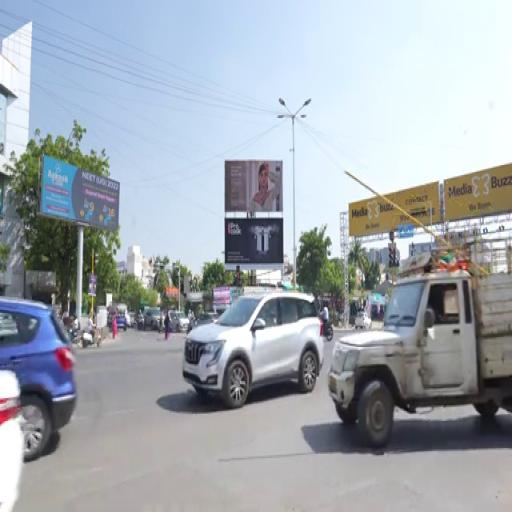Car: (183, 292, 323, 408), (0, 298, 76, 462), (0, 370, 23, 511), (188, 312, 219, 331), (144, 308, 162, 329), (171, 312, 189, 332), (355, 312, 371, 329), (116, 312, 128, 331)
